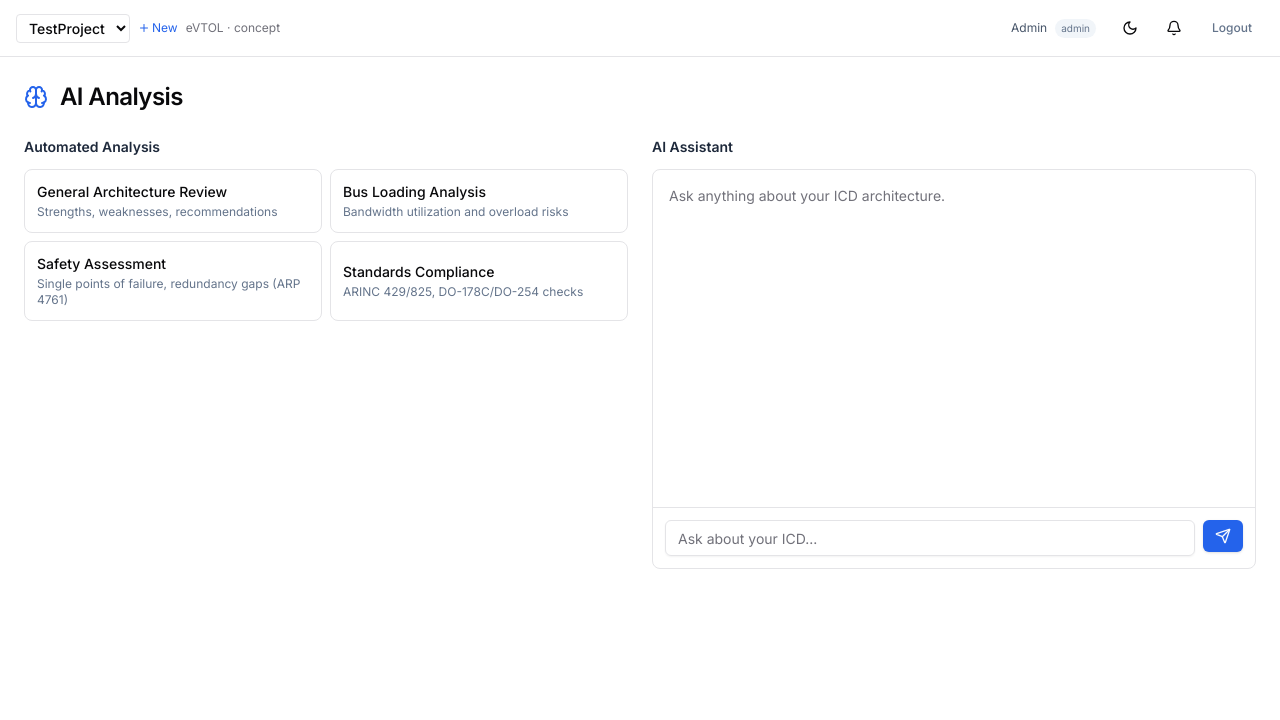
Scenario: AI Analysis Page › shows analysis result
Click the text "General Architecture Review" at (132, 192), box [37,183,227,200]
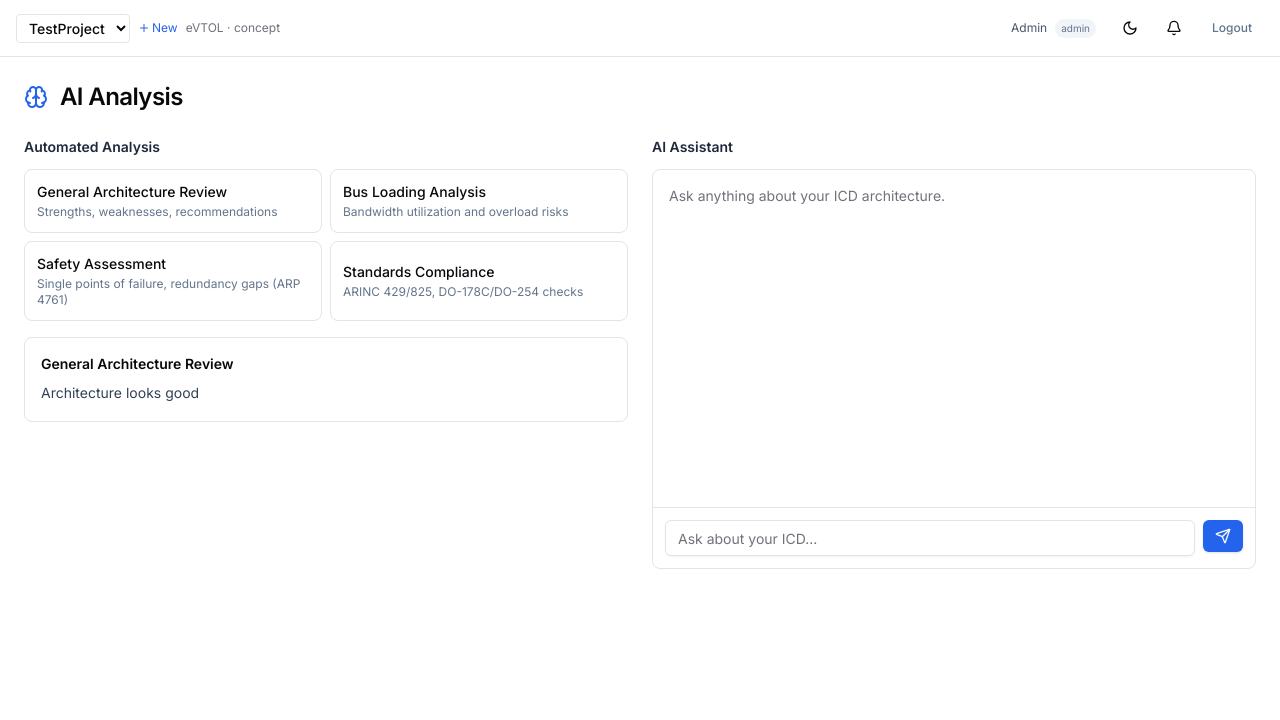
Check: the text "Architecture looks good" is shown, box [41,384,199,401]
